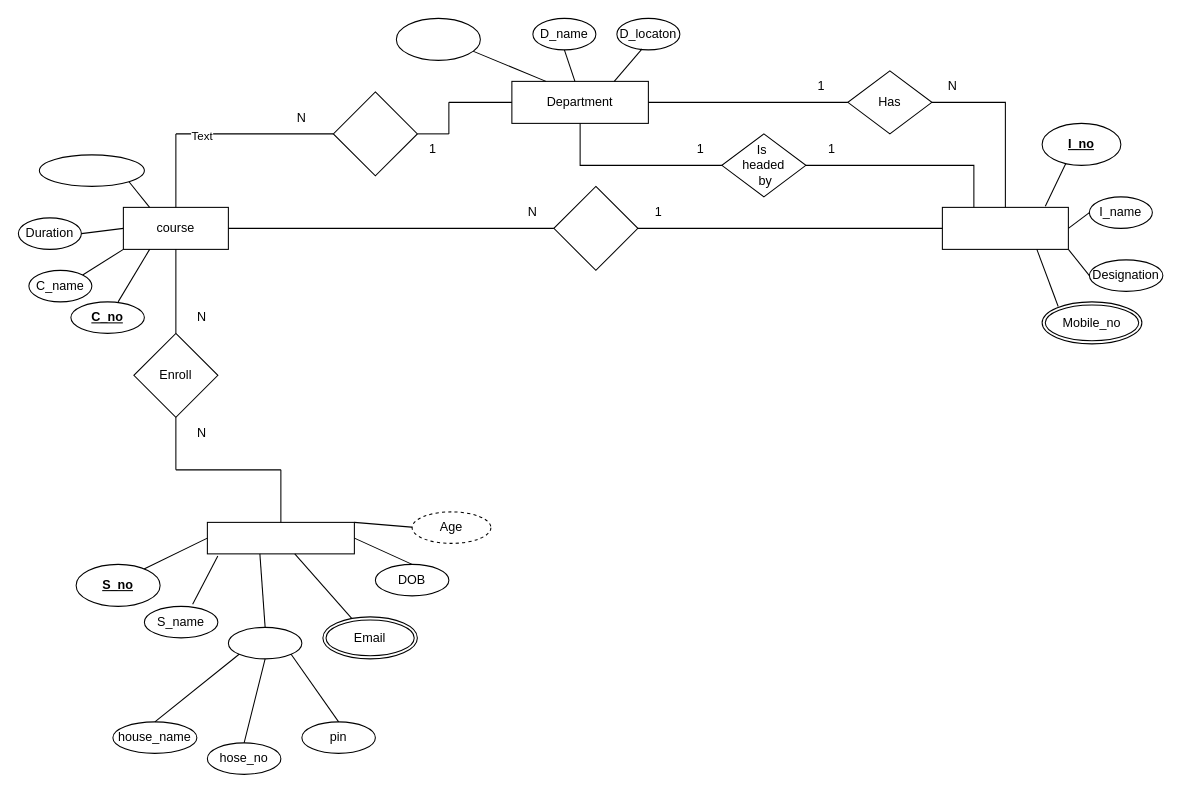
Image size: 1181x793. Some labels were removed from this diagram. The centre of each missing label's shape, as x and y in pixels:
"Address" goes at pixel 264 642.
"D_no" goes at pixel 437 38.
"Instructor" goes at pixel 1004 227.
"Is taught by" goes at pixel 595 227.
"offers" goes at pixel 374 133.
"Pre-requisite" goes at pixel 91 170.
"Student" goes at pixel 280 537.
